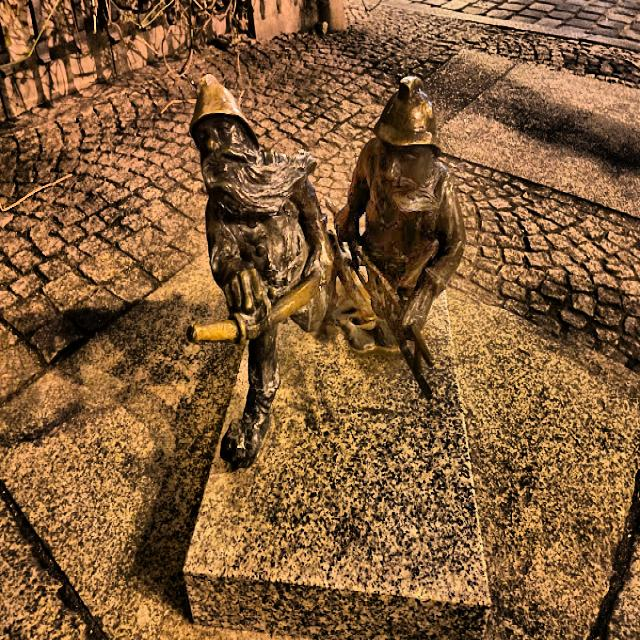Pozarki: (187, 77, 464, 472)
